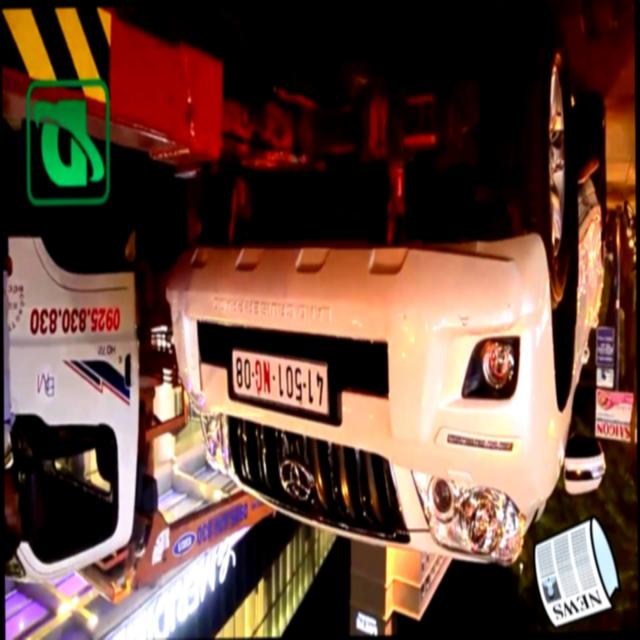bien_ngoai_giao: (232, 346, 333, 424)
